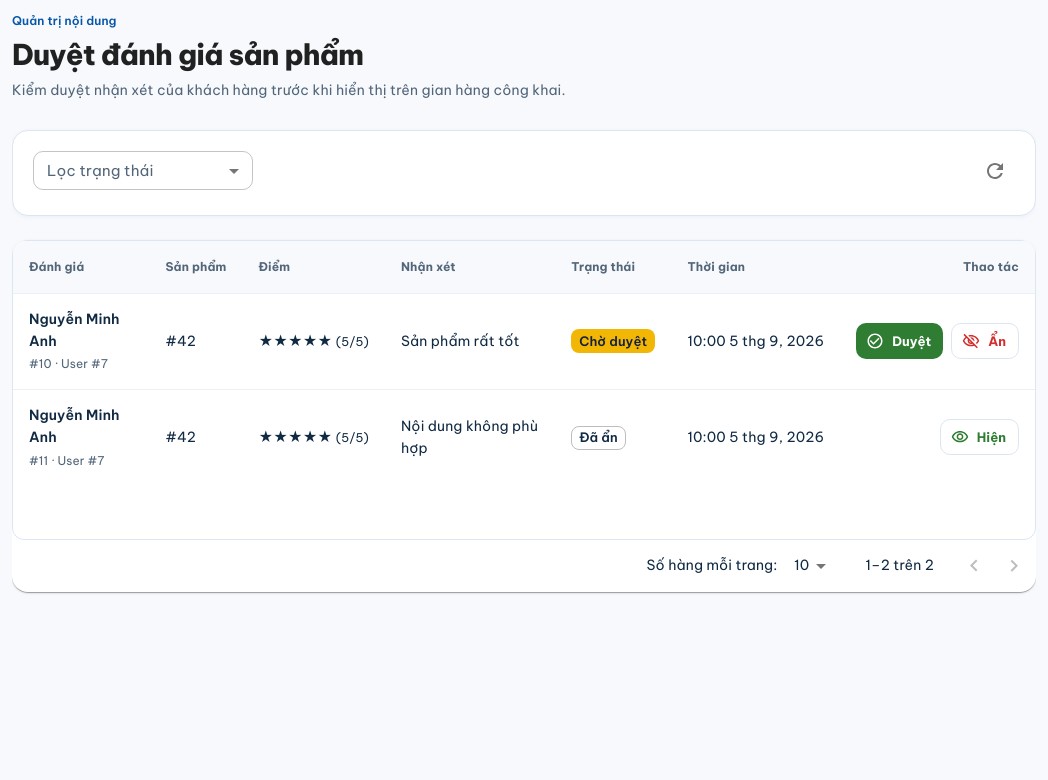
AdminReviewsPage › updates review status and reloads the list
Check: the text "Sản phẩm rất tốt" is shown, box [385,294,555,390]
Step 1. Click the button "Duyệt" → (900, 341), box [856,323,943,359]
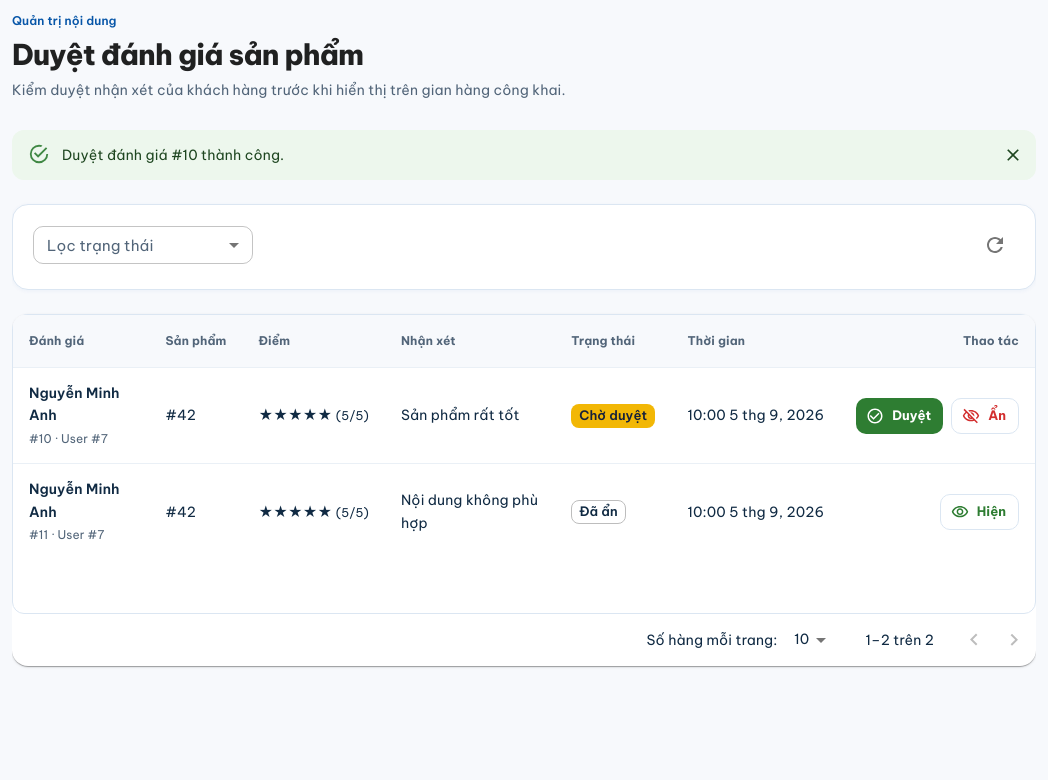
Check: the text "Duyệt đánh giá #10 thành công." is shown, box [62,146,284,164]
